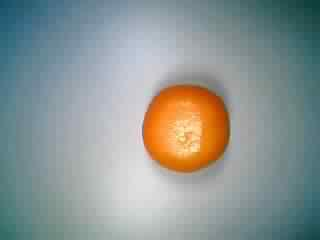orange: (132, 79, 233, 176)
